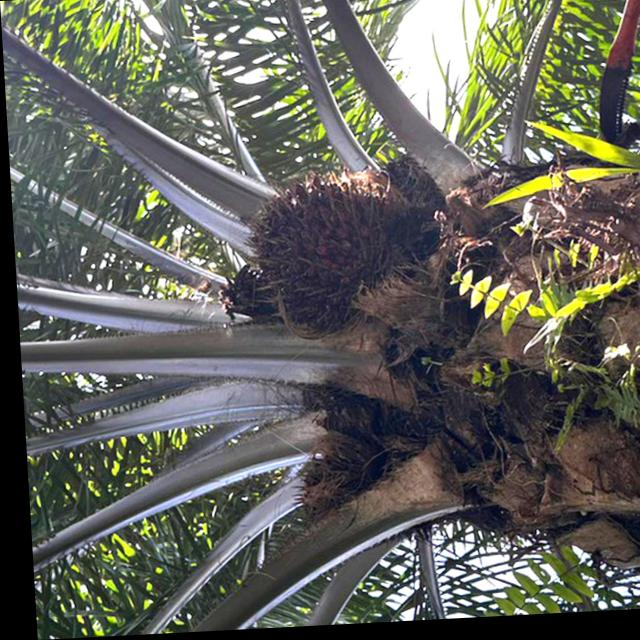ripe: (234, 171, 391, 337)
